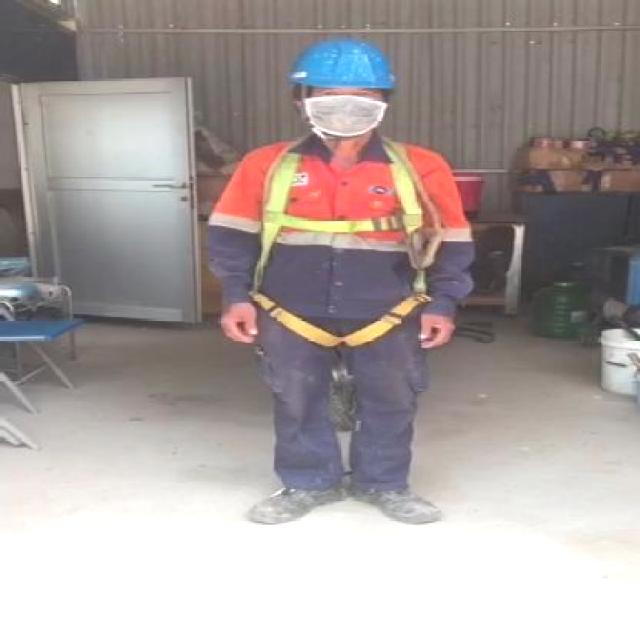face_mask: (303, 86, 385, 142)
hand_noglove: (212, 296, 263, 349), (412, 302, 460, 353)
head_helmet: (284, 37, 404, 94)
person: (194, 31, 489, 537)
shoes: (351, 470, 452, 528), (247, 478, 348, 525)
